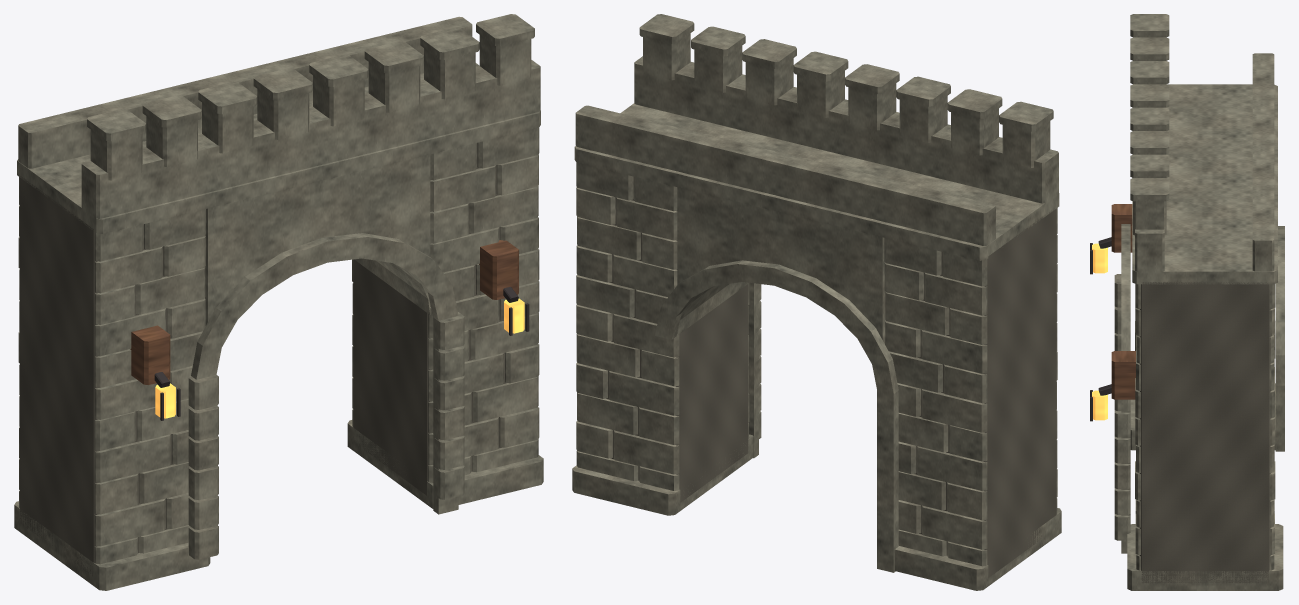
Rendered from stone_gate.glb.
3 views of the same model, side by side, from view 1: azimuth 30°, elevation 25°; view 2: azimuth 150°, elevation 25°; view 3: azimuth 270°, elevation 25° (orthographic). The views are drawn at different scales.
Parts seen in each view (by area): view 1: Stone Gate; view 2: Stone Gate; view 3: Stone Gate.
Boxes of the visible parts, <box> form: Stone Gate: <box>14,14,543,590</box>; Stone Gate: <box>572,14,1061,590</box>; Stone Gate: <box>1090,14,1284,590</box>.
Bounding box in the file's own units: 6.4 × 6.27 × 2.81.
5 materials, 4 textured.
